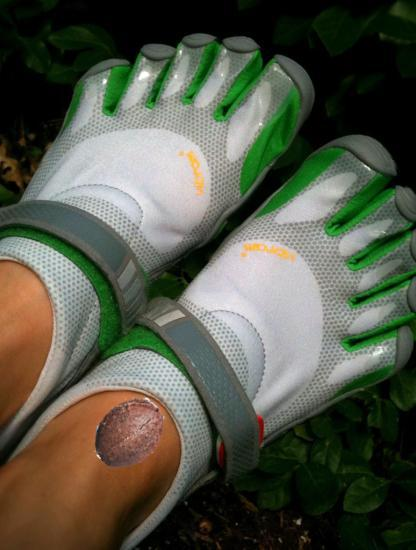Cocos: (91, 395, 168, 472)
